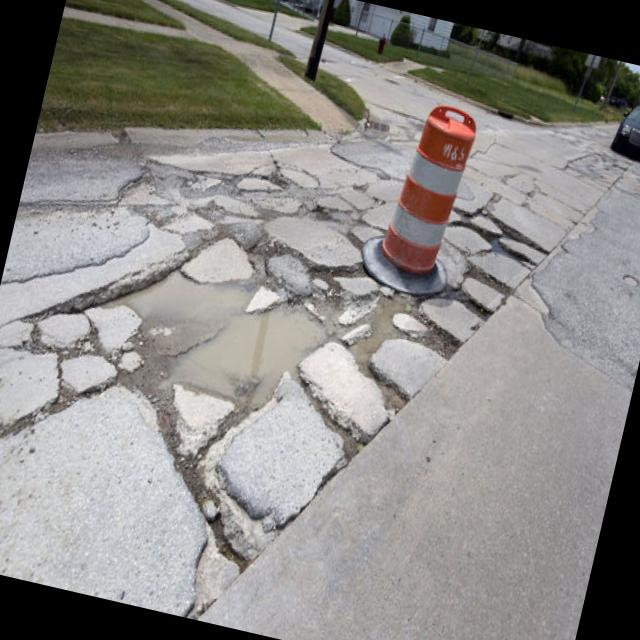Potholes: (66, 100, 584, 568)
